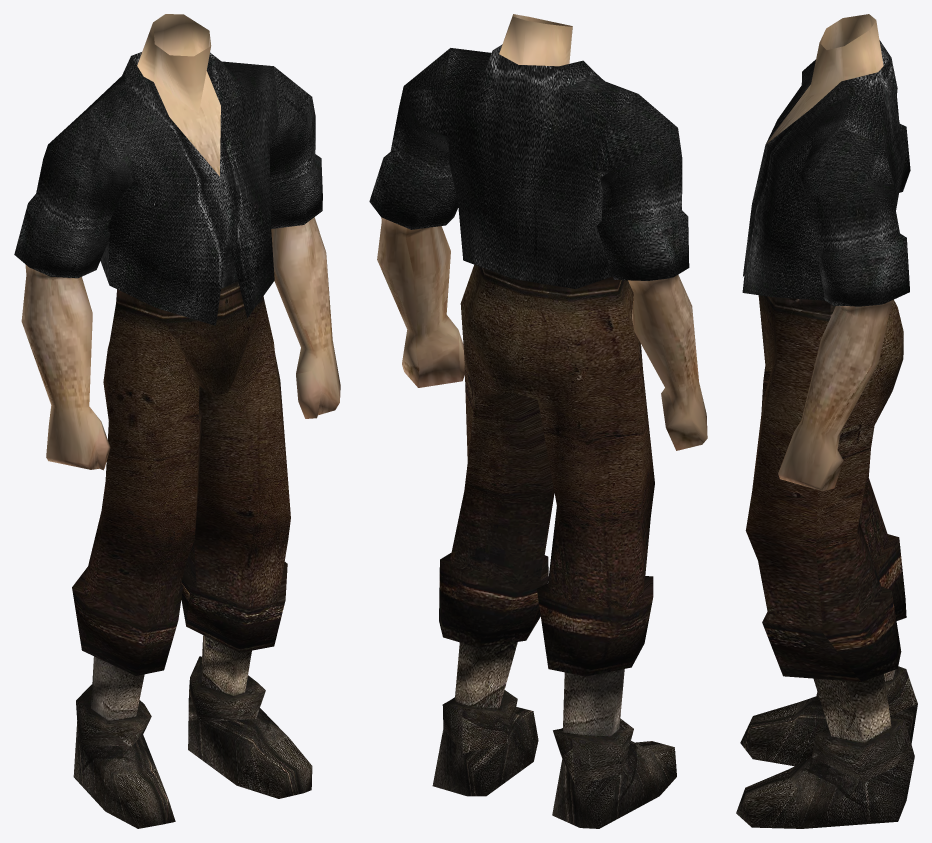
File: GS_ARMOR_BAU_L_02.glb
3 views of the same model, side by side, from view 1: azimuth 30°, elevation 25°; view 2: azimuth 150°, elevation 25°; view 3: azimuth 270°, elevation 25° (orthographic). The views are drawn at different scales.
Parts seen in each view (by area): view 1: GS_ARMOR_BAU_L_02; view 2: GS_ARMOR_BAU_L_02; view 3: GS_ARMOR_BAU_L_02.
Boxes of the visible parts, x1,y1,x2,y2 form: GS_ARMOR_BAU_L_02: (14,14,340,828); GS_ARMOR_BAU_L_02: (369,14,707,828); GS_ARMOR_BAU_L_02: (736,14,917,828).
Bounding box in the file's own units: 0.6885 × 1.68 × 0.3618.
Materials: 2 (2 with a texture image).
